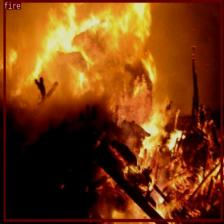fire: (3, 0, 222, 222)
